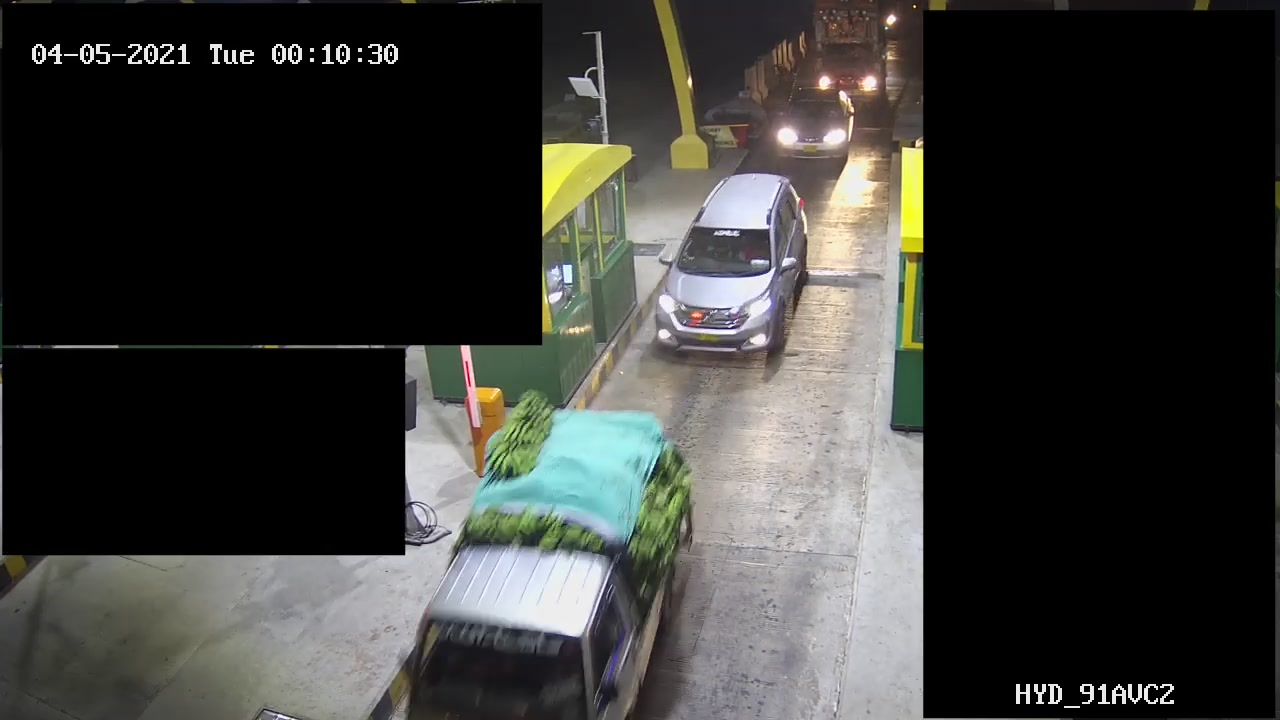F1: (639, 171, 812, 362)
